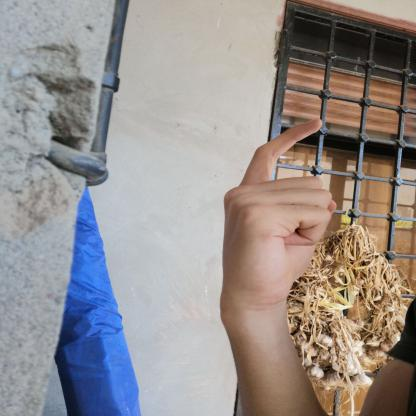RAA: (206, 111, 346, 322)
